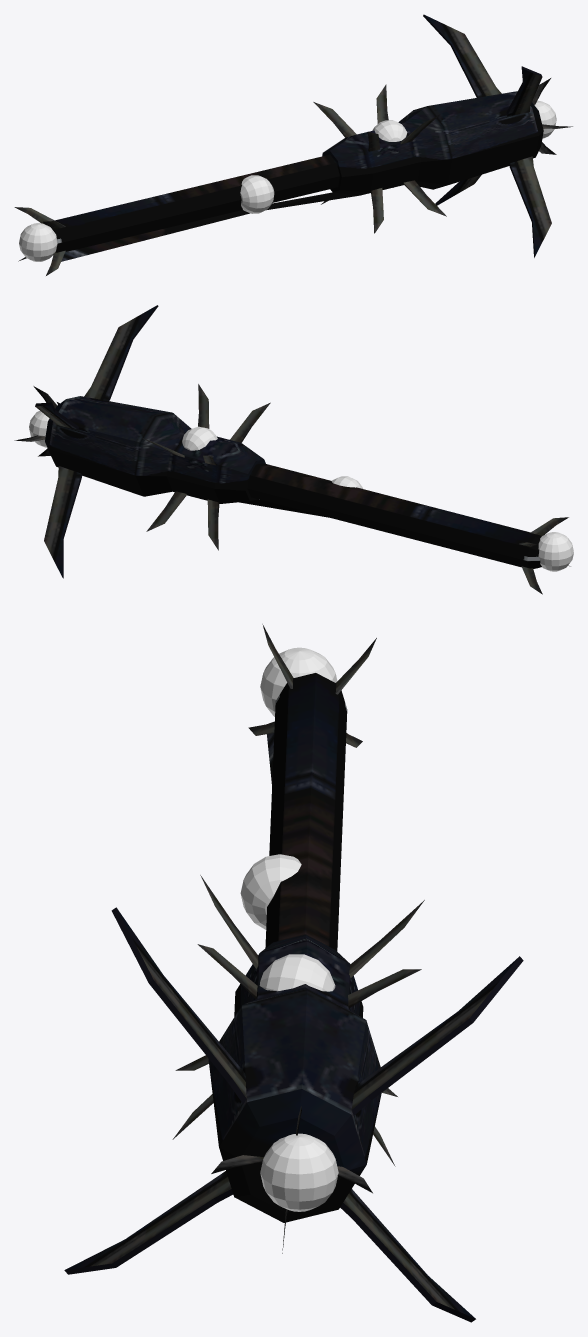
File: spike2.fbx
The picture shows the model from 3 angles, top to bottom: view 1: azimuth 30°, elevation 25°; view 2: azimuth 150°, elevation 25°; view 3: azimuth 270°, elevation 25°; orthographic projection. The views are drawn at different scales.
Parts seen in each view (by area): view 1: default_default1, fx_tip, left_hand, ground_point, fx_base_glow; view 2: default_default1, fx_tip, ground_point, fx_base_glow; view 3: default_default1, fx_base_glow, left_hand, fx_tip, ground_point.
Boxes of the visible parts, left/top/right/bottom form: default_default1: left=14, top=14, right=572, bottom=275; fx_tip: left=19, top=223, right=57, bottom=261; left_hand: left=240, top=175, right=274, bottom=213; ground_point: left=372, top=120, right=407, bottom=141; fx_base_glow: left=534, top=100, right=556, bottom=138; default_default1: left=14, top=305, right=570, bottom=594; fx_tip: left=538, top=532, right=573, bottom=571; ground_point: left=182, top=426, right=217, bottom=450; fx_base_glow: left=29, top=411, right=49, bottom=447; default_default1: left=64, top=624, right=523, bottom=1322; fx_base_glow: left=260, top=1133, right=338, bottom=1211; left_hand: left=240, top=854, right=301, bottom=929; fx_tip: left=260, top=647, right=337, bottom=716; ground_point: left=259, top=954, right=335, bottom=991.
Bounding box in the file's own units: 31.35 × 11.58 × 11.7.
